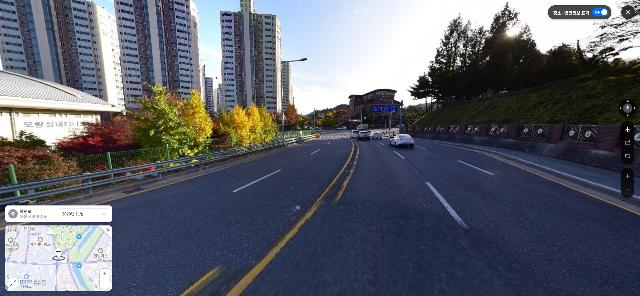ginkgo: (227, 105, 278, 146), (180, 96, 213, 155), (214, 105, 250, 148), (244, 104, 264, 144), (259, 106, 279, 141)
other: (121, 82, 196, 165)
